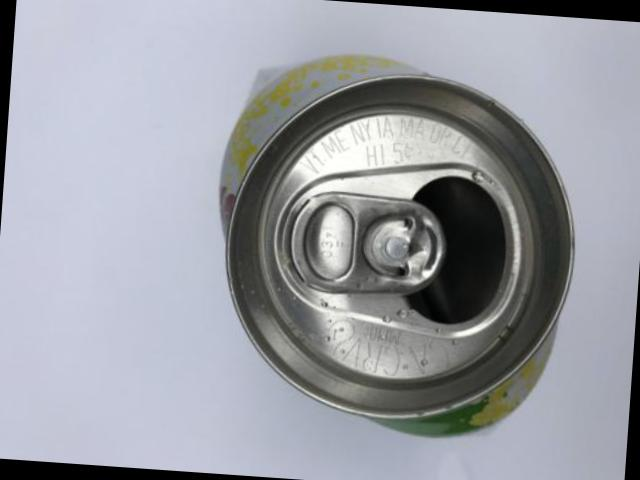metal: (219, 54, 571, 431)
